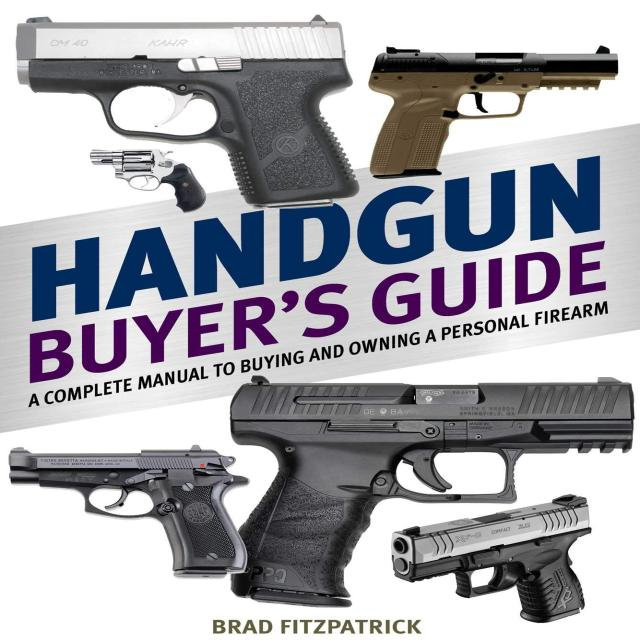Weapon: (230, 377, 633, 606), (16, 17, 357, 206), (369, 46, 618, 178), (9, 445, 248, 577), (391, 495, 591, 622)
